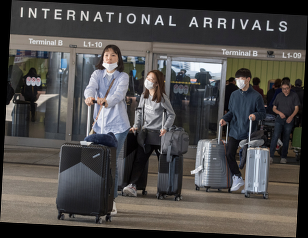mask_weared_incorrect: (101, 51, 118, 73)
with_mask: (143, 74, 157, 93), (234, 75, 247, 90)
without_mask: (281, 84, 290, 95)
